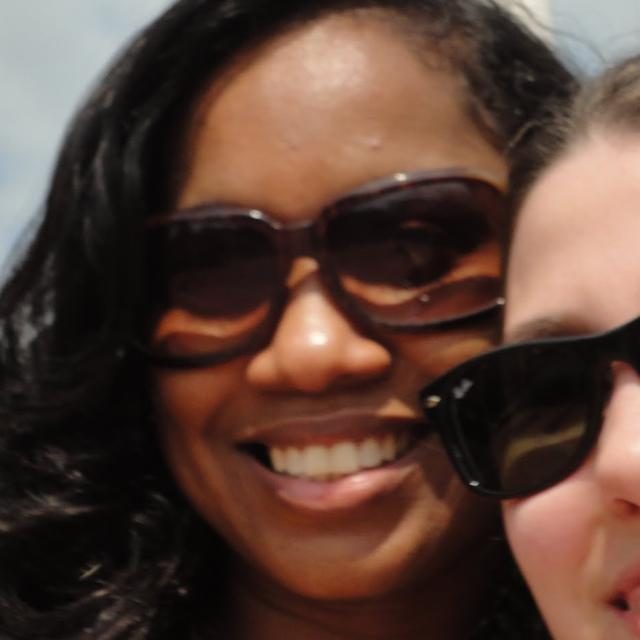Normal: (148, 9, 517, 597)
